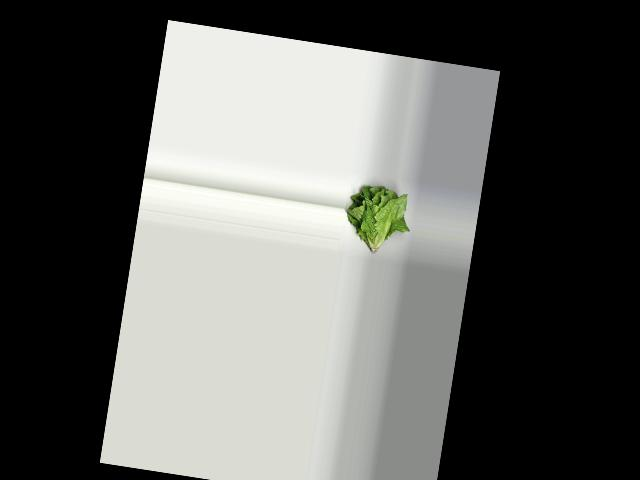lettuce: (340, 180, 415, 259)
